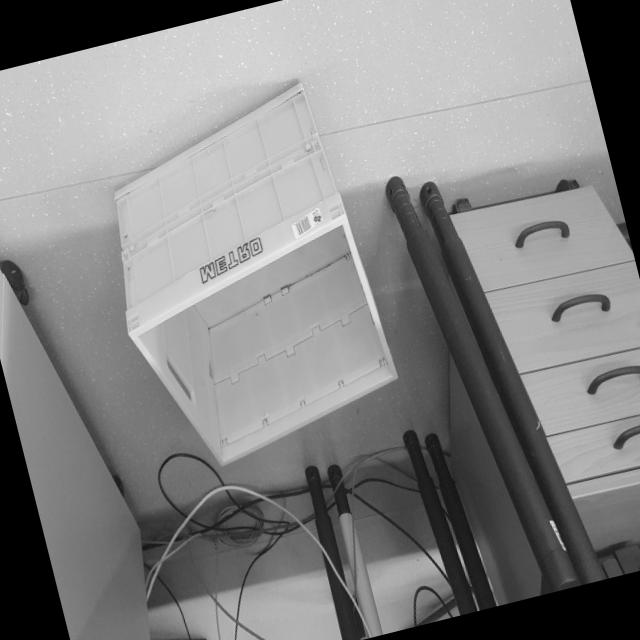box: (72, 66, 417, 496)
